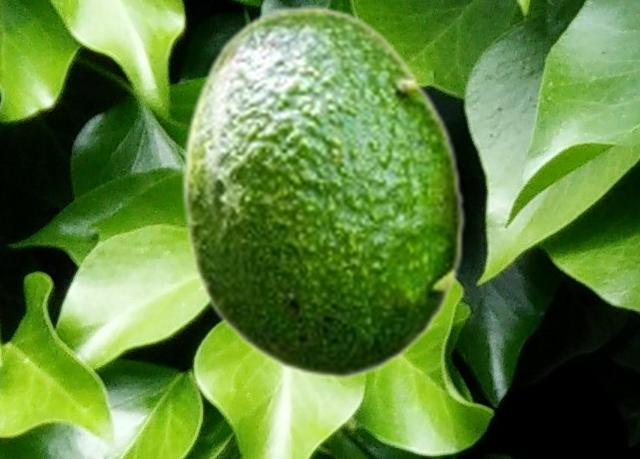avocado: (179, 5, 465, 379)
